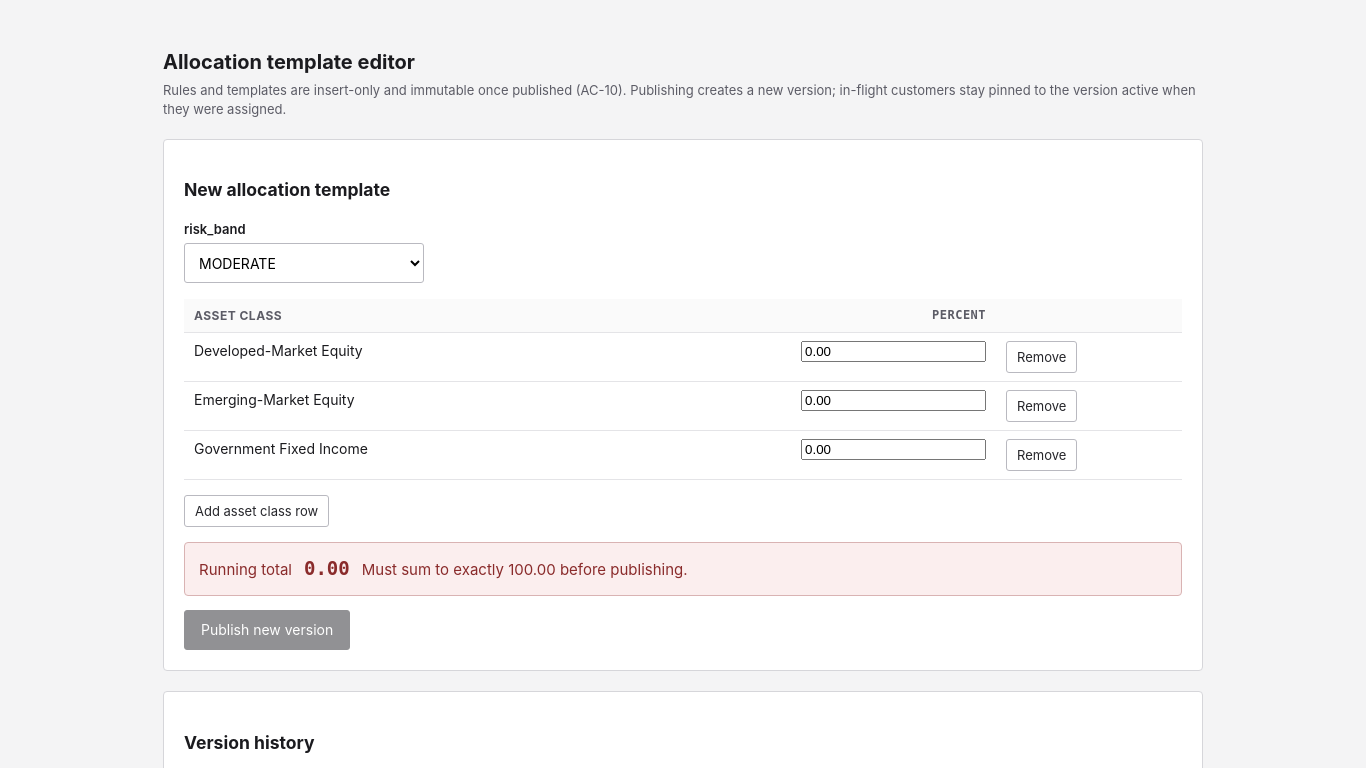
it: TemplateEditor › enables Publish once entered percentages sum to exactly 100.00
The image size is (1366, 768).
Replace the text in the field with test id "allocation-percent-0" with "60.00" at (894, 352), box [801, 342, 986, 362]
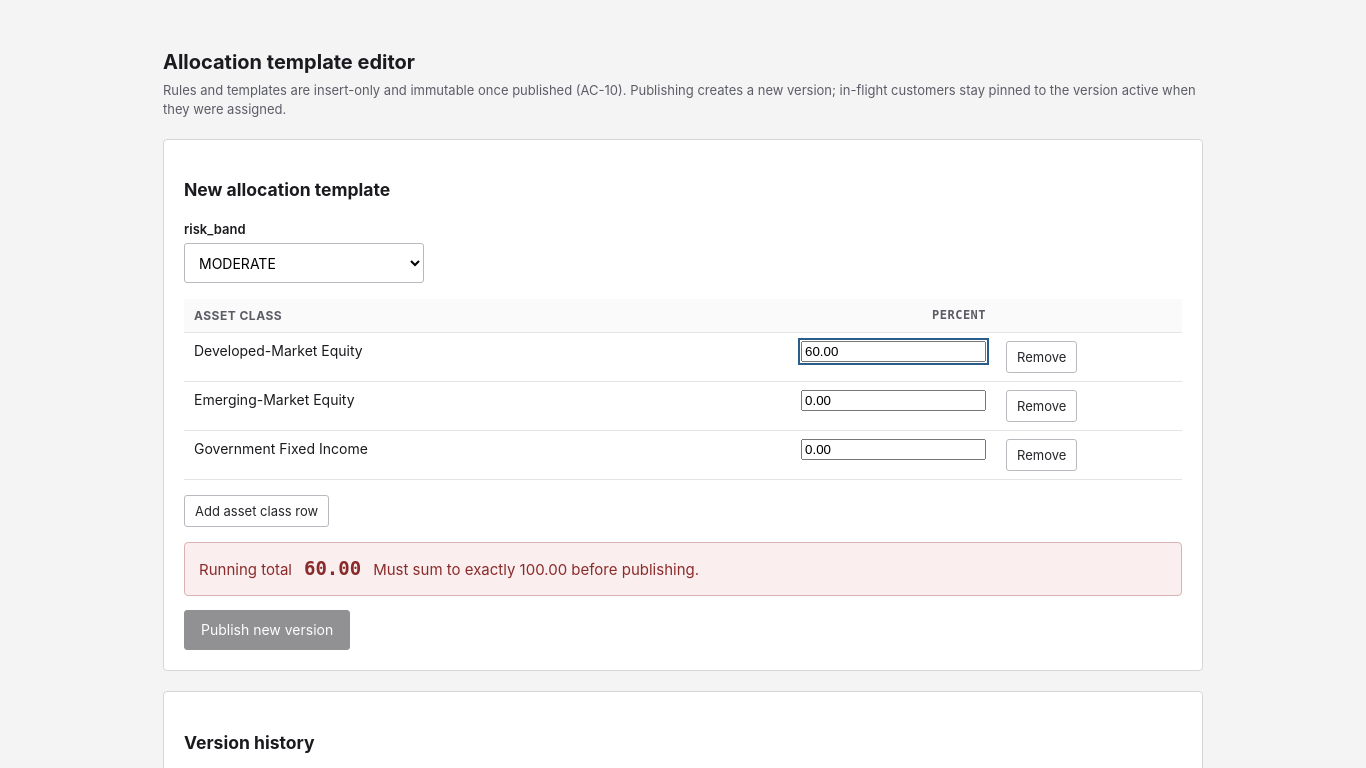
Replace the text in the field with test id "allocation-percent-1" with "40.00" at (894, 401), box [801, 390, 986, 412]
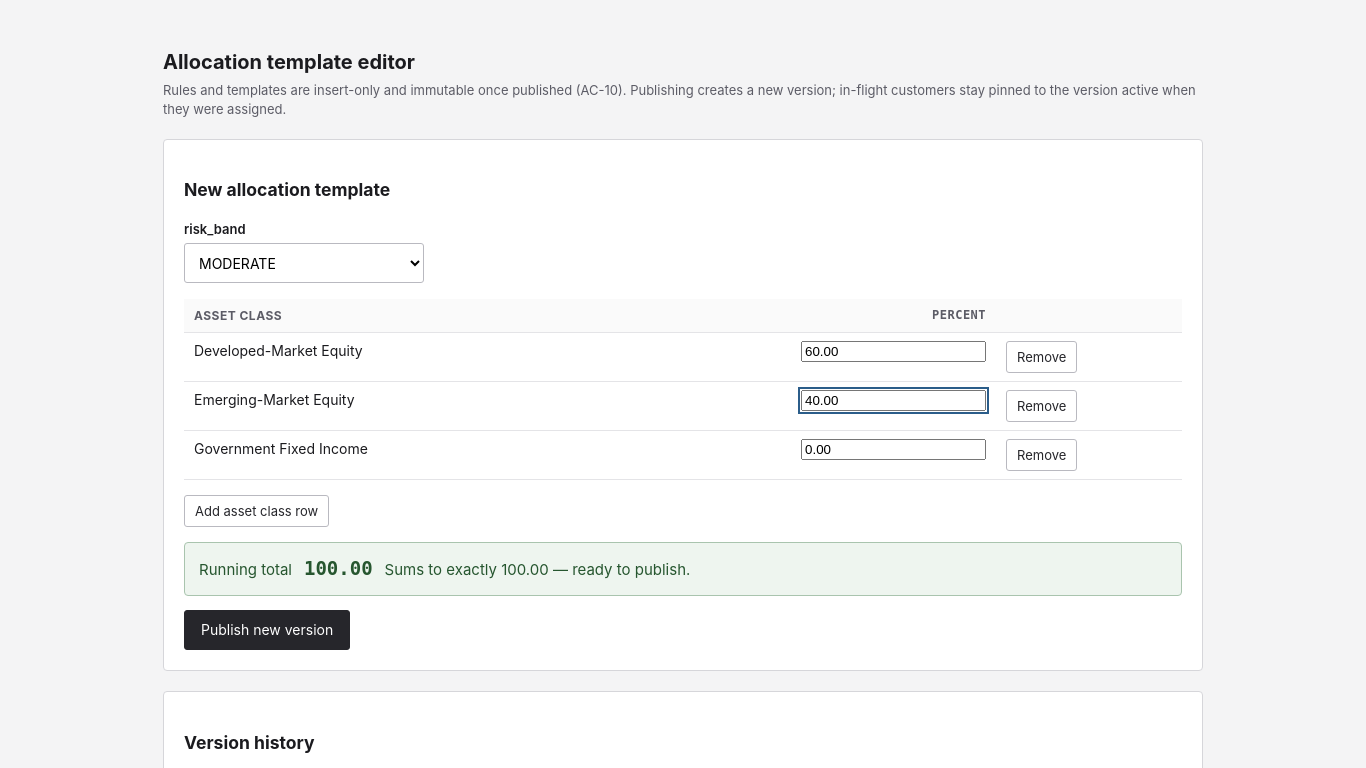
Expected: the message with test id "allocation-total" shows "100.00", [304, 558, 373, 580]
Expected: the button with test id "publish" is enabled, [184, 610, 350, 650]
